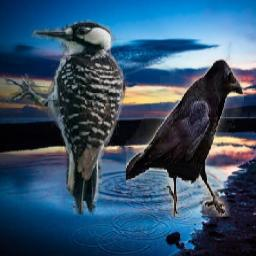Crow: (126, 59, 244, 217)
Woodpecker: (2, 20, 130, 215)
